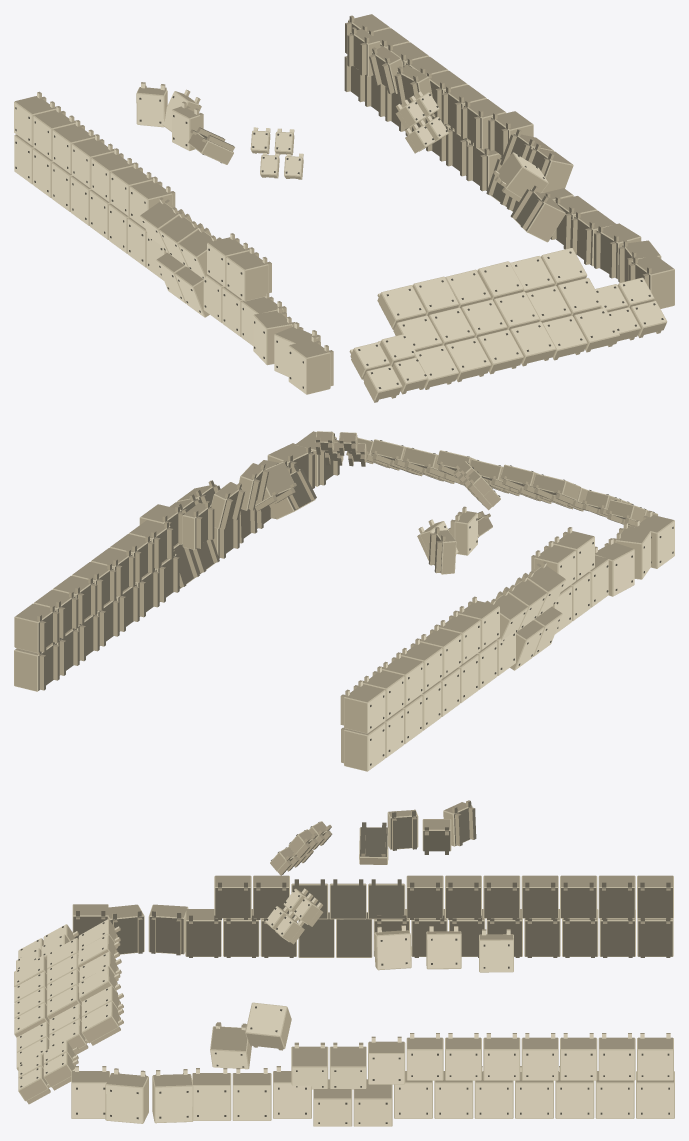
File: era_kit.glb
3 renders of one model, top to bottom at view 1: azimuth 30°, elevation 25°; view 2: azimuth 150°, elevation 25°; view 3: azimuth 270°, elevation 25°, orthographic.
Parts seen in each view (by area): view 1: ERA_M5_L_LOW_01, ERA_M5_L_HIGH_01, ERA_M5_R_HIGH_01, ERA_M5_R_LOW_01, ERA_M5_R_HIGH_02, ERA_M5_R_LOW_03, ERA_M5_L_LOW_03, ERA_M5_R_HIGH_06, ERA_M3_FRONT_3_1, ERA_M5_R_LOW_04, ERA_M3_FRONT_1_3, ERA_M3_FRONT_1_4 (+66 smaller); view 2: ERA_M5_L_HIGH_12, ERA_M5_R_HIGH_12, ERA_M5_R_LOW_15, ERA_M5_L_LOW_16, ERA_M5_L_LOW_03, ERA_M5_L_LOW_01, ERA_M6_TURRET_R_03, ERA_M5_L_LOW_02, ERA_M5_L_HIGH_02, ERA_M5_L_HIGH_07, ERA_M5_L_HIGH_08, ERA_M5_L_HIGH_09 (+51 smaller); view 3: ERA_M5_R_LOW_02, ERA_M5_R_LOW_03, ERA_M5_R_LOW_05, ERA_M5_R_LOW_04, ERA_M5_L_LOW_03, ERA_M5_R_HIGH_02, ERA_M5_R_LOW_01, ERA_M5_R_HIGH_05, ERA_M5_L_LOW_04, ERA_M5_R_HIGH_08, ERA_M5_R_HIGH_09, ERA_M5_R_HIGH_10 (+74 smaller).
Part boxes in pixels (x1,y1,x2,y2): ERA_M5_L_LOW_01: [288, 335, 333, 394]; ERA_M5_L_HIGH_01: [226, 247, 271, 301]; ERA_M5_R_HIGH_01: [510, 185, 565, 242]; ERA_M5_R_LOW_01: [628, 255, 674, 308]; ERA_M5_R_HIGH_02: [493, 152, 548, 201]; ERA_M5_R_LOW_03: [594, 223, 641, 279]; ERA_M5_L_LOW_03: [253, 306, 294, 365]; ERA_M5_R_HIGH_06: [461, 99, 506, 149]; ERA_M3_FRONT_3_1: [377, 285, 426, 329]; ERA_M5_R_LOW_04: [570, 210, 616, 266]; ERA_M3_FRONT_1_3: [477, 329, 523, 374]; ERA_M3_FRONT_1_4: [510, 321, 556, 366]; ERA_M5_L_HIGH_12: [340, 680, 385, 733]; ERA_M5_R_HIGH_12: [14, 603, 59, 653]; ERA_M5_R_LOW_15: [14, 642, 59, 691]; ERA_M5_L_LOW_16: [341, 722, 385, 771]; ERA_M5_L_LOW_03: [595, 538, 634, 596]; ERA_M5_L_LOW_01: [630, 510, 674, 568]; ERA_M6_TURRET_R_03: [182, 501, 214, 549]; ERA_M5_L_LOW_02: [613, 522, 651, 579]; ERA_M5_L_HIGH_02: [531, 541, 575, 591]; ERA_M5_L_HIGH_07: [438, 610, 480, 663]; ERA_M5_L_HIGH_08: [420, 624, 461, 677]; ERA_M5_L_HIGH_09: [400, 638, 442, 691]; ERA_M5_R_LOW_02: [105, 1068, 148, 1123]; ERA_M5_R_LOW_03: [152, 1069, 193, 1123]; ERA_M5_R_LOW_05: [232, 1068, 271, 1120]; ERA_M5_R_LOW_04: [192, 1068, 231, 1120]; ERA_M5_L_LOW_03: [148, 904, 188, 955]; ERA_M5_R_HIGH_02: [245, 1002, 291, 1050]; ERA_M5_R_LOW_01: [71, 1066, 109, 1118]; ERA_M5_R_HIGH_05: [368, 1036, 405, 1084]; ERA_M5_L_LOW_04: [185, 909, 221, 957]; ERA_M5_R_HIGH_08: [483, 1033, 520, 1080]; ERA_M5_R_HIGH_09: [521, 1033, 558, 1080]; ERA_M5_R_HIGH_10: [560, 1033, 597, 1080].
Bounding box in the file's own units: 3.85 × 1.62 × 5.85.
